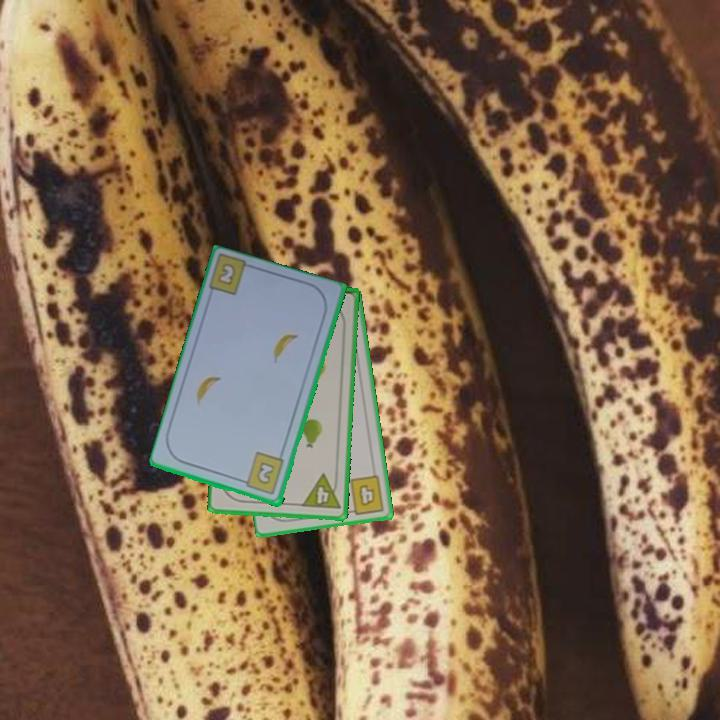2b: (237, 449, 287, 498), (216, 262, 237, 286)
4b: (344, 472, 387, 517)
4p: (298, 471, 343, 513)
